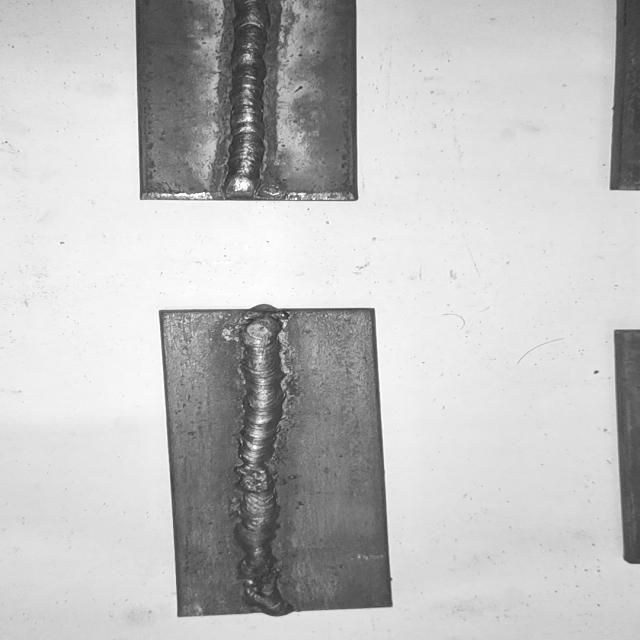Bad Weld: (235, 312, 292, 612)
Defect: (223, 566, 301, 612)
Good Weld: (228, 0, 274, 196)
